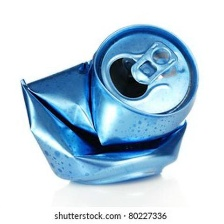can: (16, 20, 201, 186)
